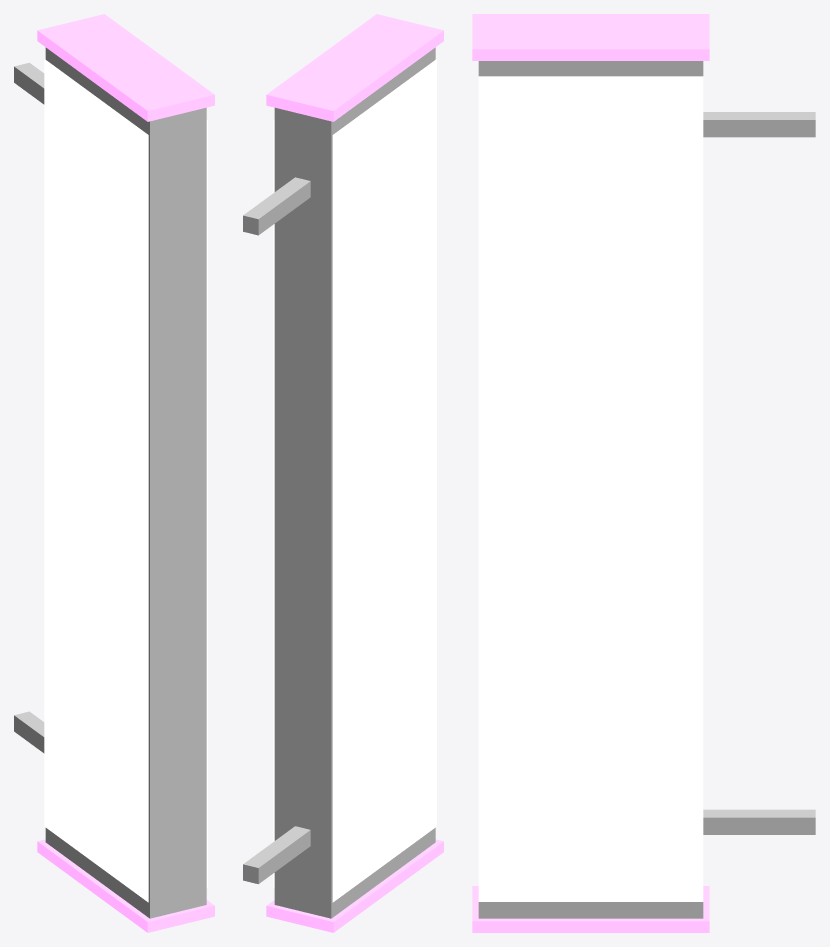
The model's file is OCK_Prop_BladeSign_A.fbx.
The picture shows the model from 3 angles, left to right: view 1: azimuth 30°, elevation 25°; view 2: azimuth 150°, elevation 25°; view 3: azimuth 270°, elevation 25°; orthographic projection. The views are drawn at different scales.
Visible parts, largest first — view 1: OCK_Prop_BladeSign_A; view 2: OCK_Prop_BladeSign_A; view 3: OCK_Prop_BladeSign_A.
Boxes of the visible parts, x1=… form: OCK_Prop_BladeSign_A: x1=14, y1=14, x2=214, y2=932; OCK_Prop_BladeSign_A: x1=243, y1=14, x2=443, y2=932; OCK_Prop_BladeSign_A: x1=472, y1=14, x2=815, y2=932.
Bounding box in the file's own units: 26 × 304 × 107.
